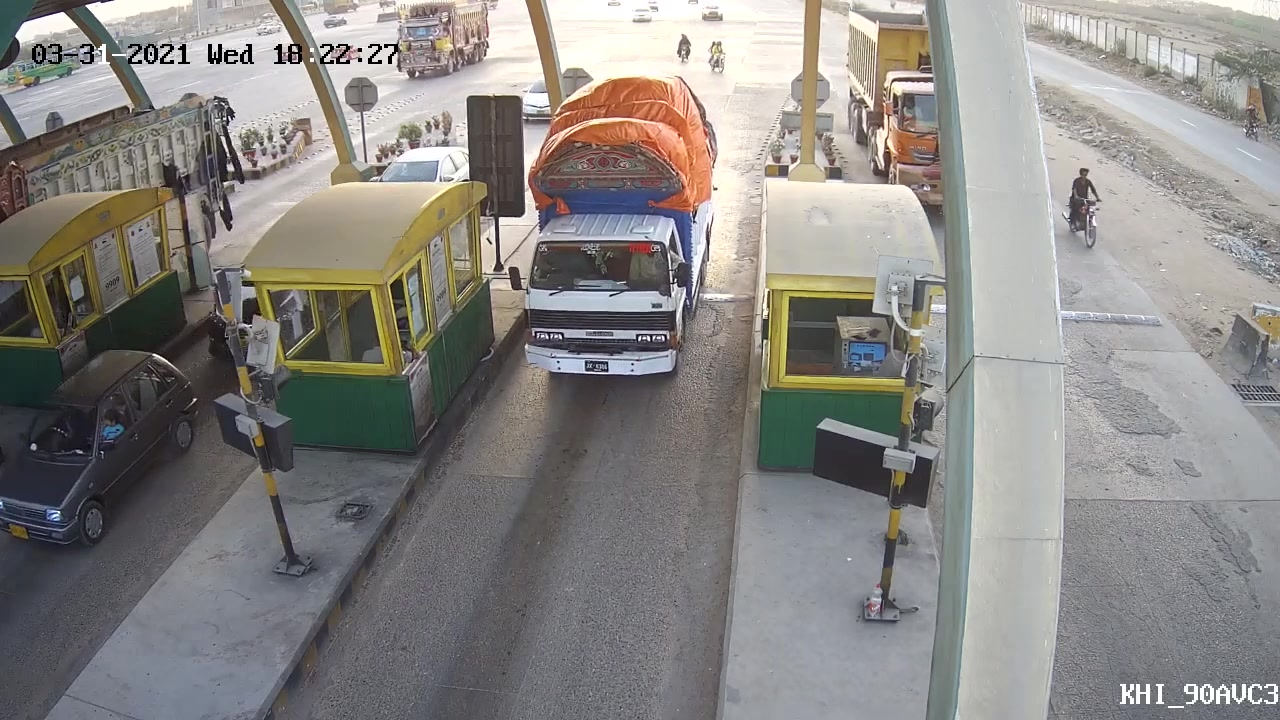F5: (505, 81, 729, 380)
